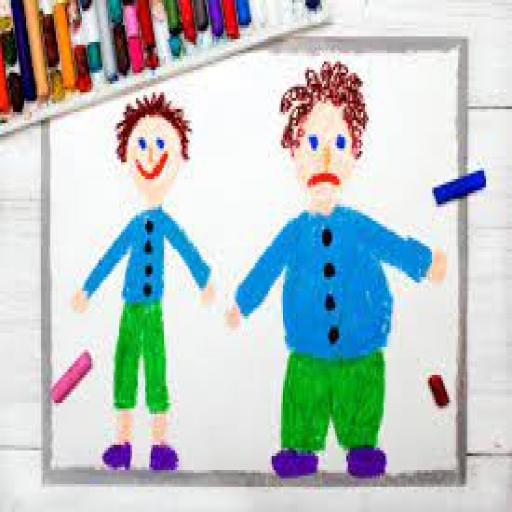person: (222, 60, 446, 478), (67, 89, 212, 482)
